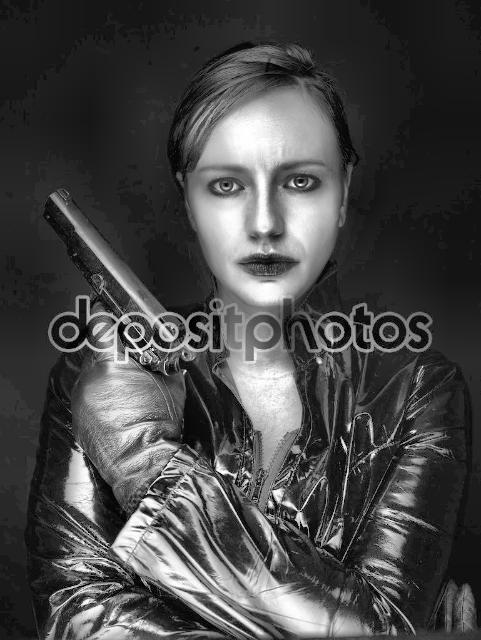pistol: (40, 185, 196, 378)
